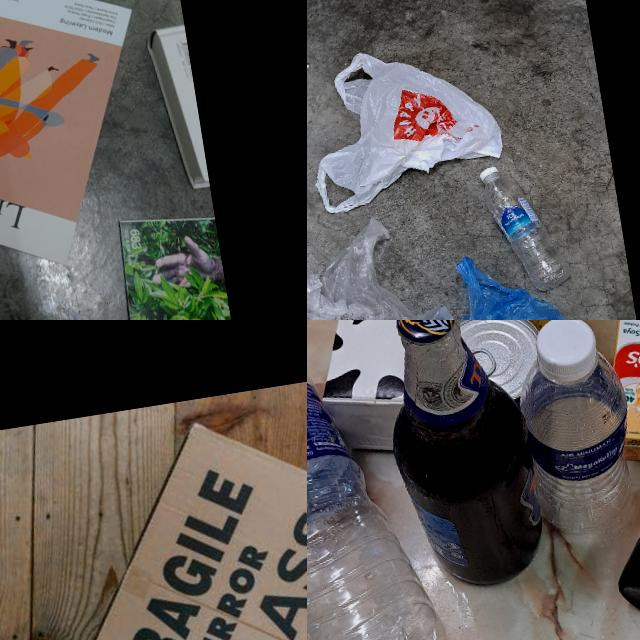aba de lata: (470, 347, 498, 379)
caixinha: (307, 320, 515, 462), (594, 320, 640, 471)
garrafa de vidro: (369, 320, 552, 599), (586, 366, 640, 637)
garrafa plástica: (307, 320, 459, 640), (511, 345, 640, 542), (476, 167, 576, 299)
lata: (452, 320, 550, 412)
papel: (0, 0, 169, 286), (104, 201, 242, 320)
papelão: (0, 369, 307, 640)
sacola plástica: (307, 30, 514, 217), (372, 239, 619, 320), (307, 216, 462, 320)
tampa plástica: (532, 320, 600, 383), (476, 163, 499, 180)
